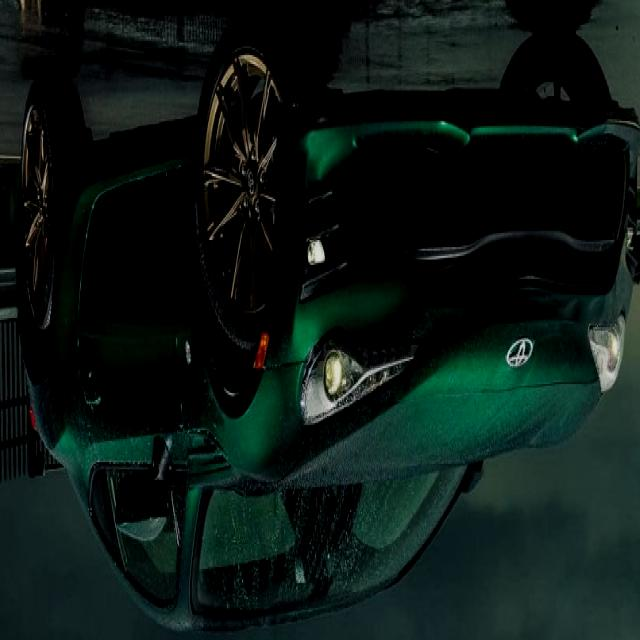green: (16, 0, 637, 637)
